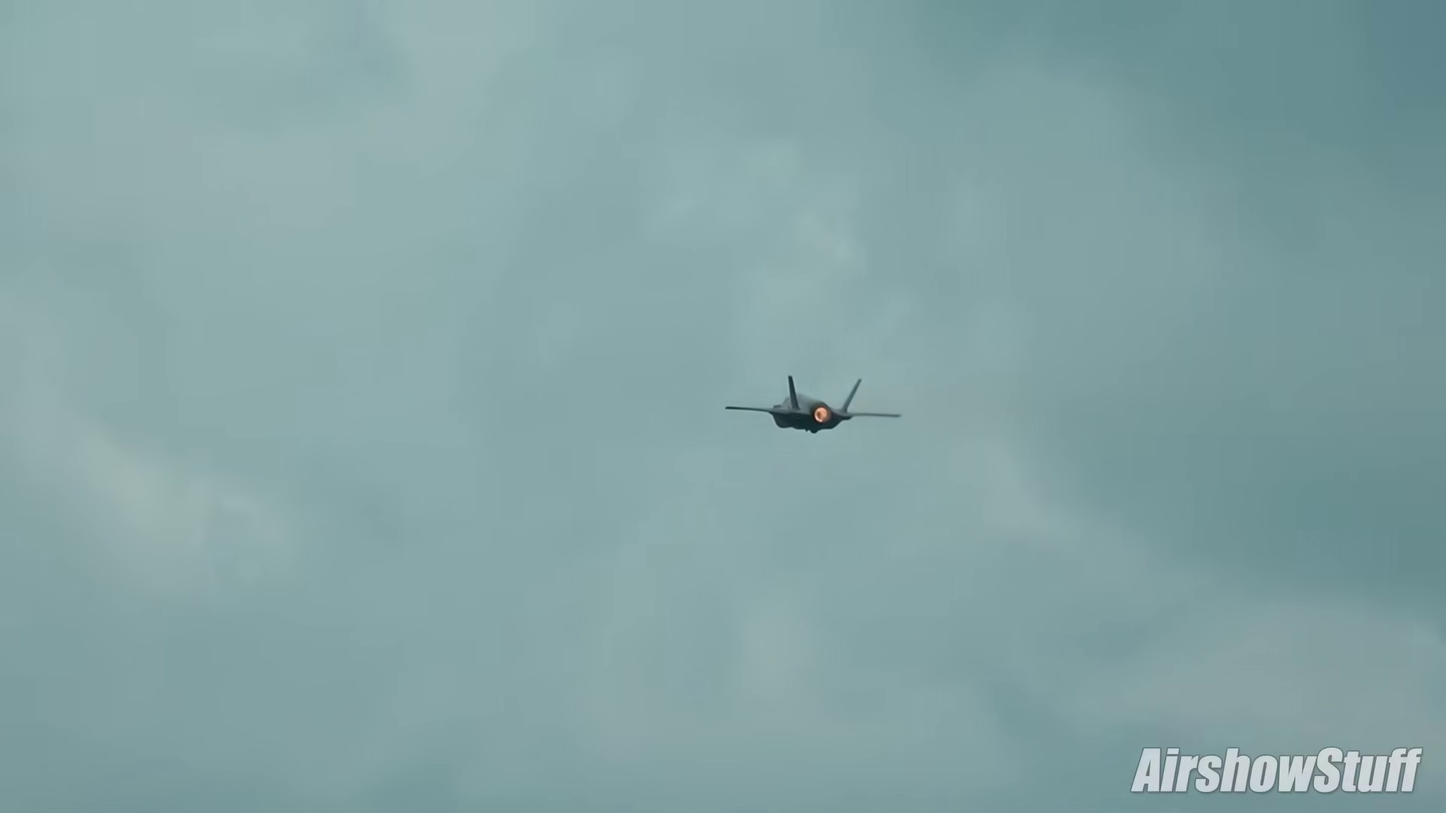F35: (715, 358, 909, 443)
